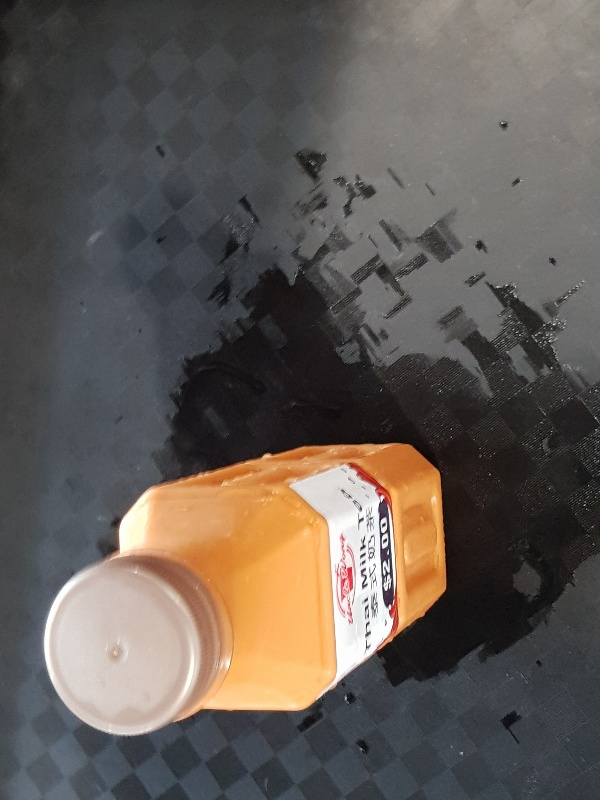Thai Milk Tea: (40, 438, 450, 737)
